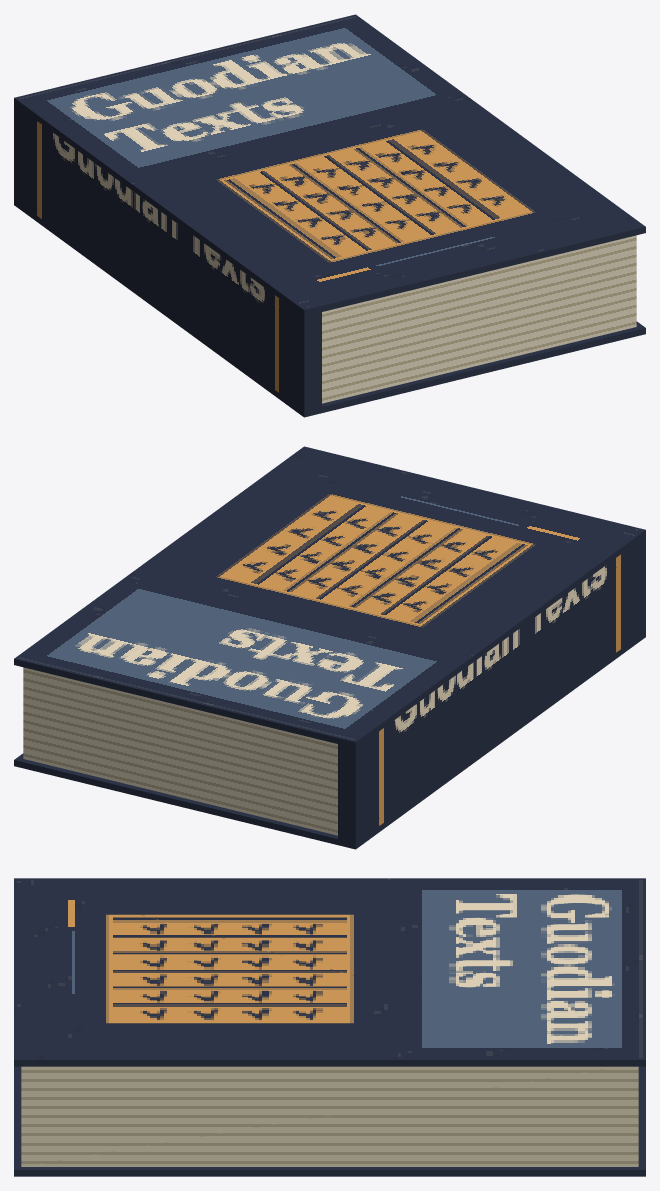
Rendered from holybook_guodian.glb.
The picture shows the model from 3 angles, top to bottom: view 1: azimuth 30°, elevation 25°; view 2: azimuth 150°, elevation 25°; view 3: azimuth 270°, elevation 25°; orthographic projection. The views are drawn at different scales.
Parts seen in each view (by area): view 1: block_front cover, block_spine, block_page block, block_back cover; view 2: block_front cover, block_spine, block_page block, block_back cover; view 3: block_front cover, block_page block, block_back cover.
Boxes of the visible parts, left/top/right/bottom form: block_front cover: left=14, top=14, right=645, bottom=316; block_spine: left=14, top=104, right=321, bottom=411; block_page block: left=322, top=235, right=636, bottom=403; block_back cover: left=14, top=199, right=645, bottom=417; block_front cover: left=14, top=446, right=645, bottom=748; block_spine: left=338, top=536, right=645, bottom=843; block_page block: left=23, top=667, right=337, bottom=835; block_back cover: left=14, top=631, right=645, bottom=849; block_front cover: left=14, top=878, right=645, bottom=1066; block_page block: left=21, top=1066, right=638, bottom=1166; block_back cover: left=14, top=1066, right=645, bottom=1176.
Bounding box in the file's own units: 0.1734 × 0.052 × 0.255.
1 material, 1 textured.
